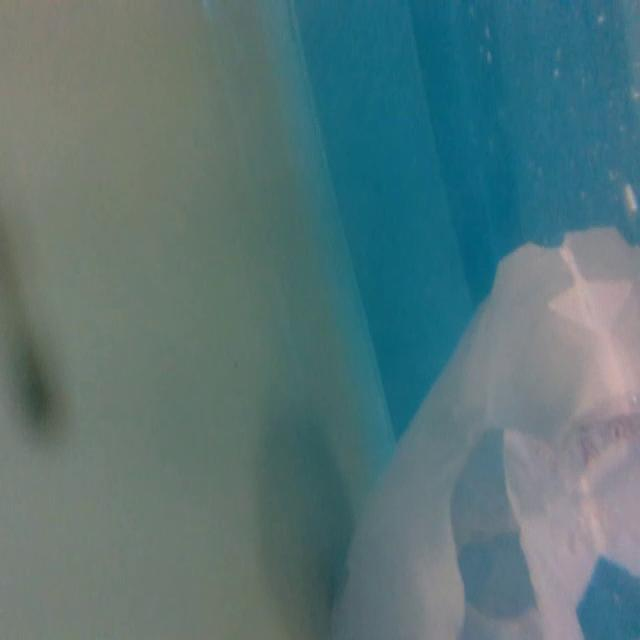plastic bags: (320, 222, 640, 640)
